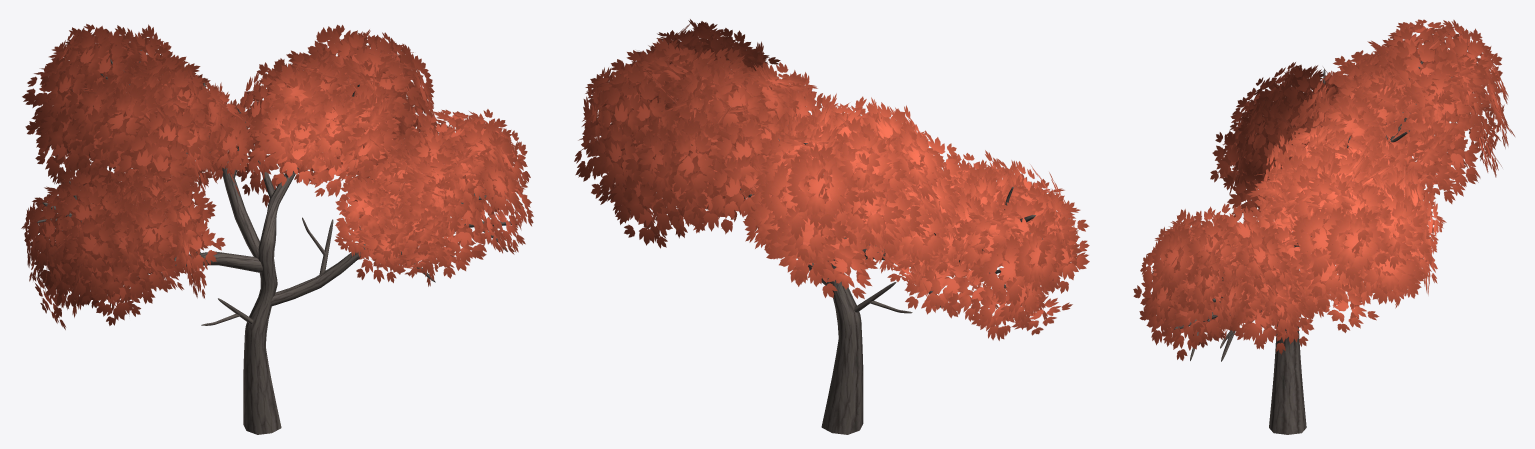
The model's file is tree_c.glb.
The picture shows the model from 3 angles, left to right: view 1: azimuth 30°, elevation 25°; view 2: azimuth 150°, elevation 25°; view 3: azimuth 270°, elevation 25°; orthographic projection. The views are drawn at different scales.
Size of the model in its own units: 8.98 by 6.99 by 6.61.
2 materials, 2 textured.
